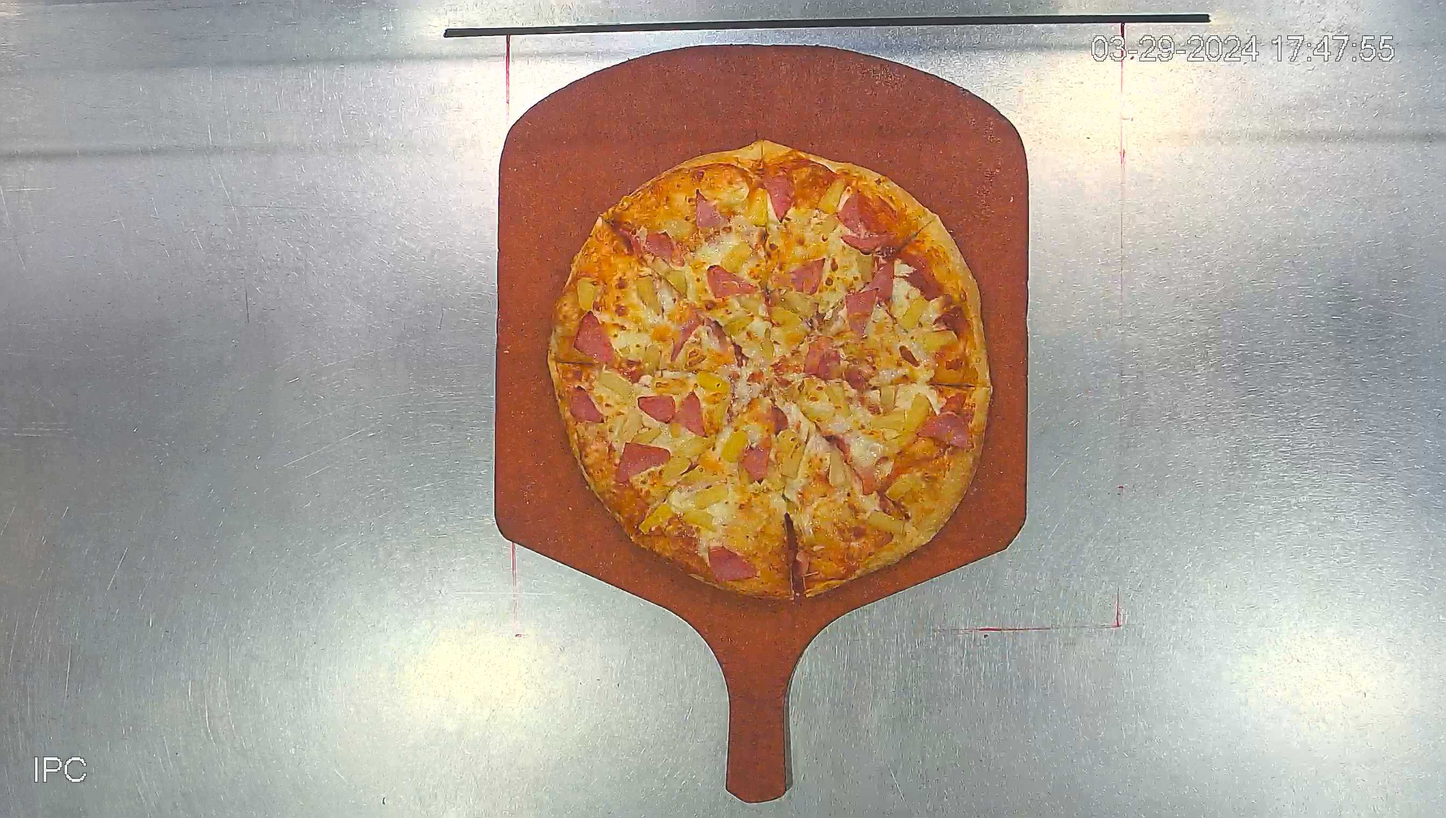manager_choice: (546, 143, 990, 604)
